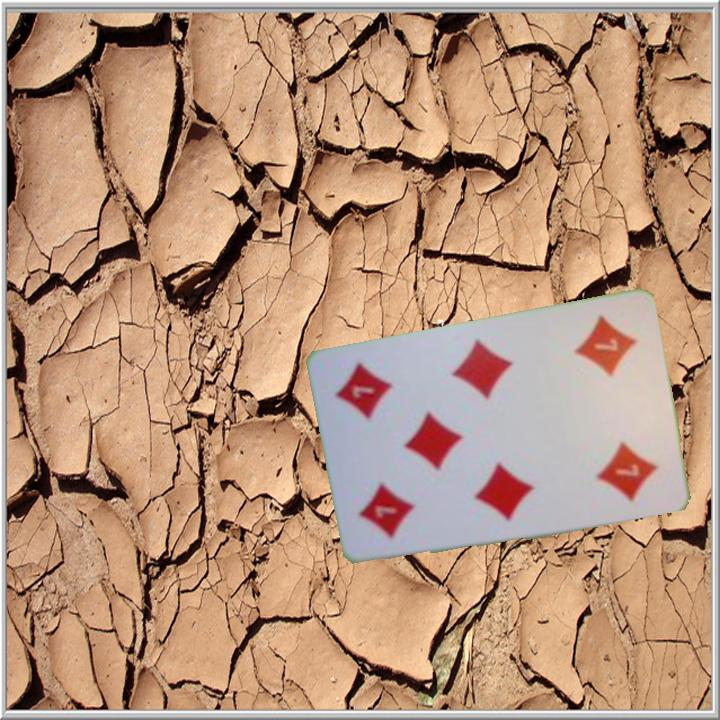d_7.png: (341, 442, 443, 555), (555, 305, 657, 418)
